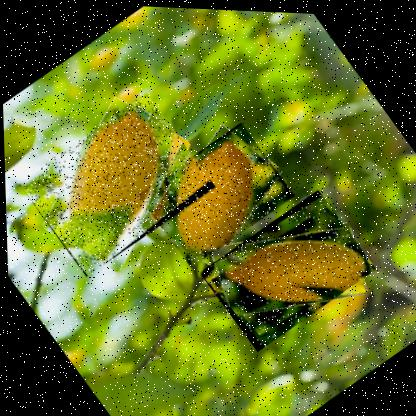lemon: (13, 84, 217, 280), (195, 181, 377, 353), (134, 114, 296, 270)
